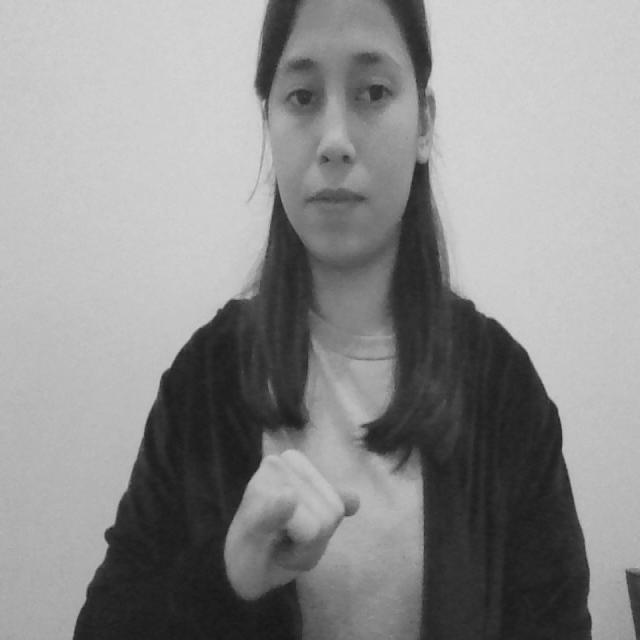kotu: (229, 432, 368, 583)
